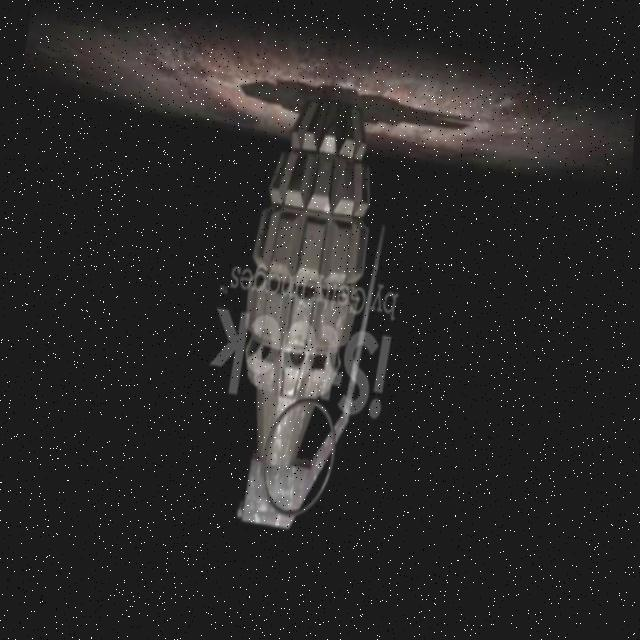grenade: (209, 73, 404, 552)
